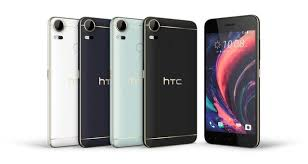htc: (202, 11, 263, 150), (142, 14, 198, 149)
